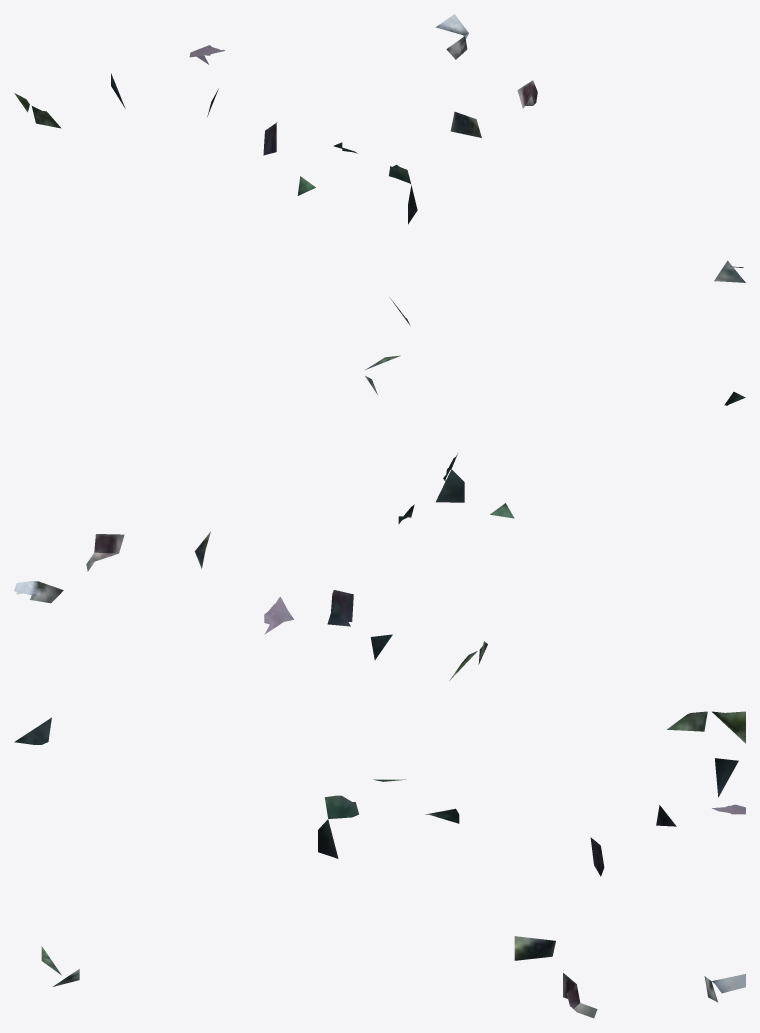
The picture shows the model from 3 angles, top to bottom: view 1: azimuth 30°, elevation 25°; view 2: azimuth 150°, elevation 25°; view 3: azimuth 270°, elevation 25°; orthographic projection. The views are drawn at different scales.
Parts seen in each view (by area): view 1: 3043627270437062771_1; view 2: 3043627270437062771_1; view 3: 3043627270437062771_1.
Boxes of the visible parts, x1,y1,x2,y2 form: 3043627270437062771_1: (14, 14, 745, 325); 3043627270437062771_1: (14, 355, 745, 680); 3043627270437062771_1: (14, 711, 745, 1018).
Bounding box in the file's own units: 49.39 × 9.53 × 65.42.
Materials: 1 (1 with a texture image).
